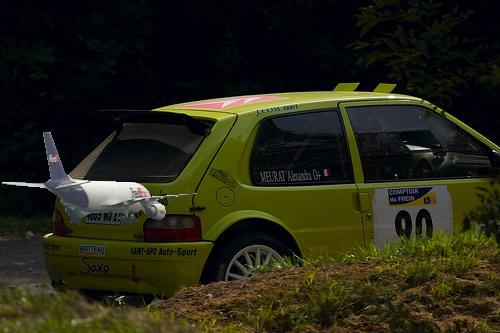tampered: (3, 133, 197, 223)
